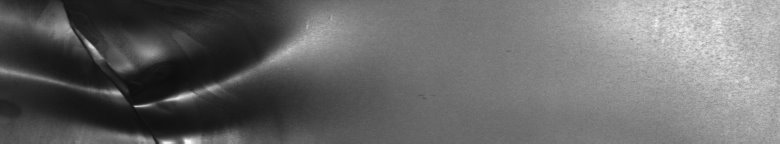ke: (4, 4, 292, 136)
